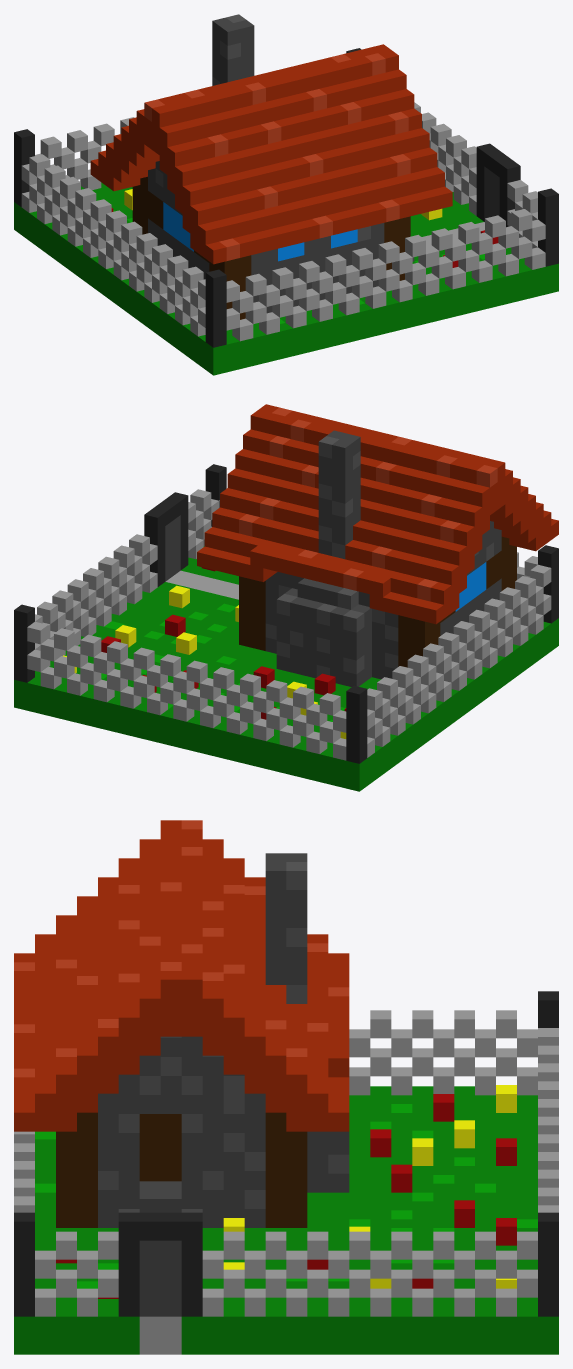
File: house4.obj
The picture shows the model from 3 angles, top to bottom: view 1: azimuth 30°, elevation 25°; view 2: azimuth 150°, elevation 25°; view 3: azimuth 270°, elevation 25°; orthographic projection. The views are drawn at different scales.
Bounding box in the file's own units: 2.6 × 1.8 × 2.6.
Materials: 1 (1 with a texture image).
